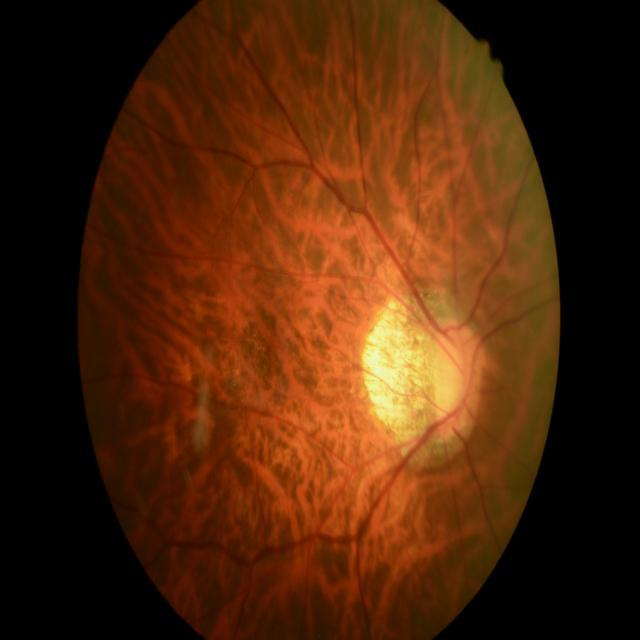cup: (437, 336, 469, 420)
disk: (432, 319, 482, 442)
